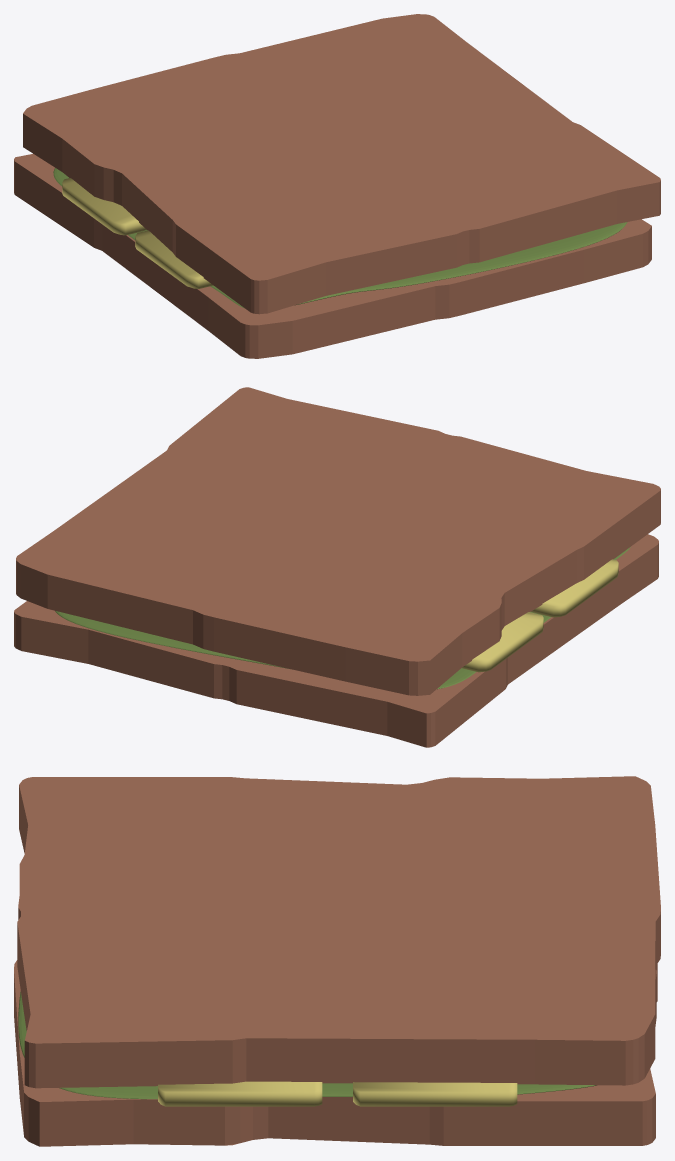
Rendered from completetoast.fbx.
3 renders of one model, top to bottom at view 1: azimuth 30°, elevation 25°; view 2: azimuth 150°, elevation 25°; view 3: azimuth 270°, elevation 25°, orthographic. The views are drawn at different scales.
Parts seen in each view (by area): view 1: top bread, bottom bread, kaya, BUTTER.001, BUTTER; view 2: top bread, bottom bread, kaya, BUTTER.001, BUTTER; view 3: top bread, bottom bread, BUTTER.001, BUTTER, kaya.
Part boxes in pixels (x1,y1,x2,y2): top bread: (23, 14, 660, 314); bottom bread: (14, 154, 651, 358); kaya: (53, 168, 627, 308); BUTTER.001: (62, 178, 146, 235); BUTTER: (135, 230, 213, 288); top bread: (16, 387, 660, 695); bottom bread: (14, 534, 658, 747); kaya: (55, 547, 630, 689); BUTTER.001: (462, 612, 543, 672); BUTTER: (531, 559, 618, 617); top bread: (17, 776, 660, 1088); bottom bread: (14, 855, 657, 1146); BUTTER.001: (353, 1082, 517, 1106); BUTTER: (158, 1081, 322, 1106); kaya: (18, 991, 596, 1099).
Bounding box in the file's own units: 207 × 37.19 × 203.
